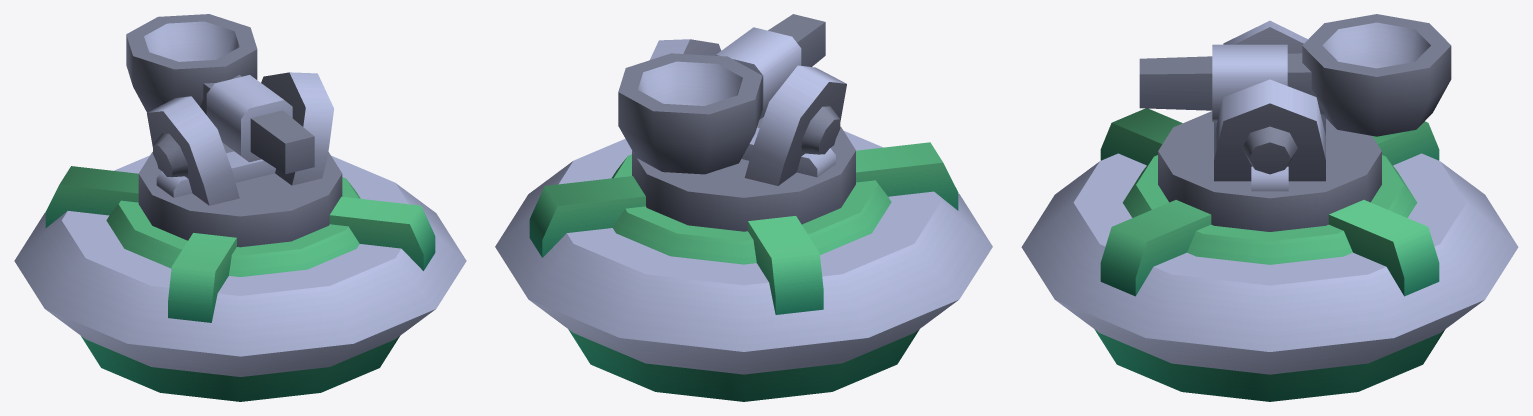
Rendered from enemy-ufo-b-weapon.fbx.
3 renders of one model, left to right at view 1: azimuth 30°, elevation 25°; view 2: azimuth 150°, elevation 25°; view 3: azimuth 270°, elevation 25°, orthographic. The views are drawn at different scales.
Parts seen in each view (by area): view 1: enemy-ufo-b-weapon, catapult; view 2: enemy-ufo-b-weapon, catapult; view 3: enemy-ufo-b-weapon, catapult.
Part boxes in pixels (x1=…): enemy-ufo-b-weapon: x1=14, y1=72, x2=466, y2=401; catapult: x1=126, y1=14, x2=314, y2=174; enemy-ufo-b-weapon: x1=495, y1=39, x2=992, y2=401; catapult: x1=618, y1=14, x2=825, y2=174; enemy-ufo-b-weapon: x1=1021, y1=20, x2=1518, y2=401; catapult: x1=1139, y1=14, x2=1451, y2=136.
Bounding box in the file's own units: 99.93 × 62.56 × 100.
